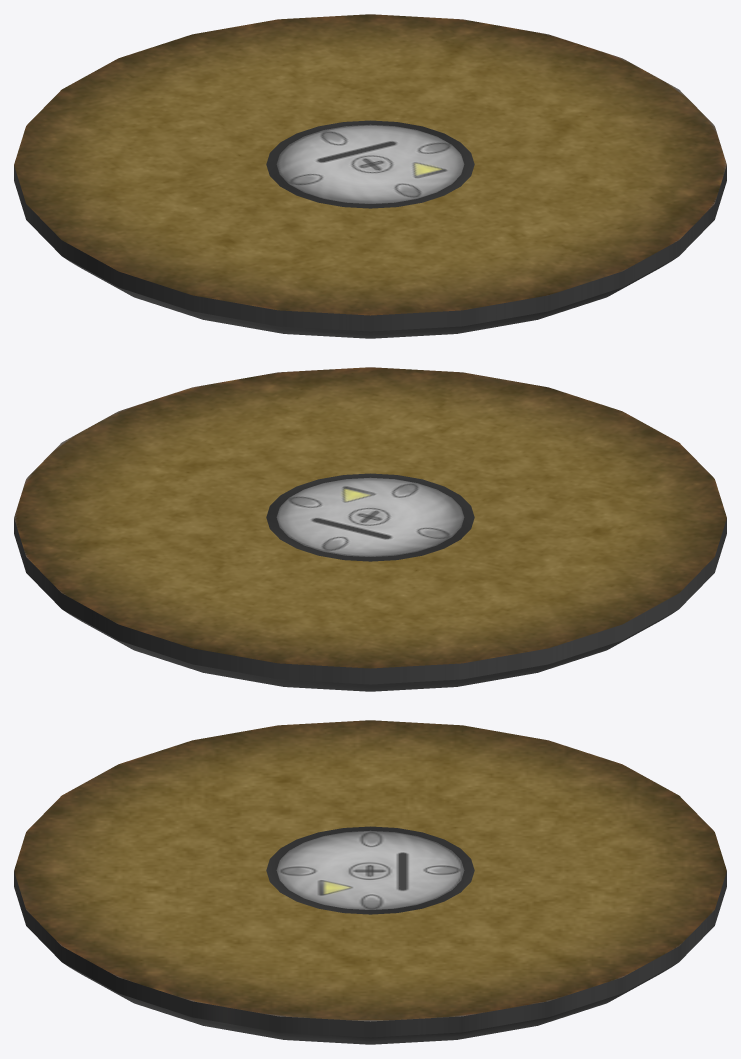
File: Mk85HeatShield.FBX
3 views of the same model, one above another, from view 1: azimuth 30°, elevation 25°; view 2: azimuth 150°, elevation 25°; view 3: azimuth 270°, elevation 25° (orthographic).
Parts seen in each view (by area): view 1: HeatShieldTopCap, Cylinder003, CrewHatch003; view 2: HeatShieldTopCap, Cylinder003, CrewHatch003; view 3: HeatShieldTopCap, Cylinder003, CrewHatch003.
Boxes of the visible parts, box(x1,y1,x2,y2) form: HeatShieldTopCap: box(14, 14, 726, 315); Cylinder003: box(14, 165, 726, 338); CrewHatch003: box(266, 120, 474, 208); HeatShieldTopCap: box(14, 367, 726, 668); Cylinder003: box(14, 518, 726, 691); CrewHatch003: box(266, 473, 474, 561); HeatShieldTopCap: box(14, 720, 726, 1021); Cylinder003: box(14, 871, 726, 1044); CrewHatch003: box(266, 826, 474, 914).
Size of what is drawn, in the model's own units: 1.87 by 1.87 by 0.2612.
Materials: 1 (1 with a texture image).
